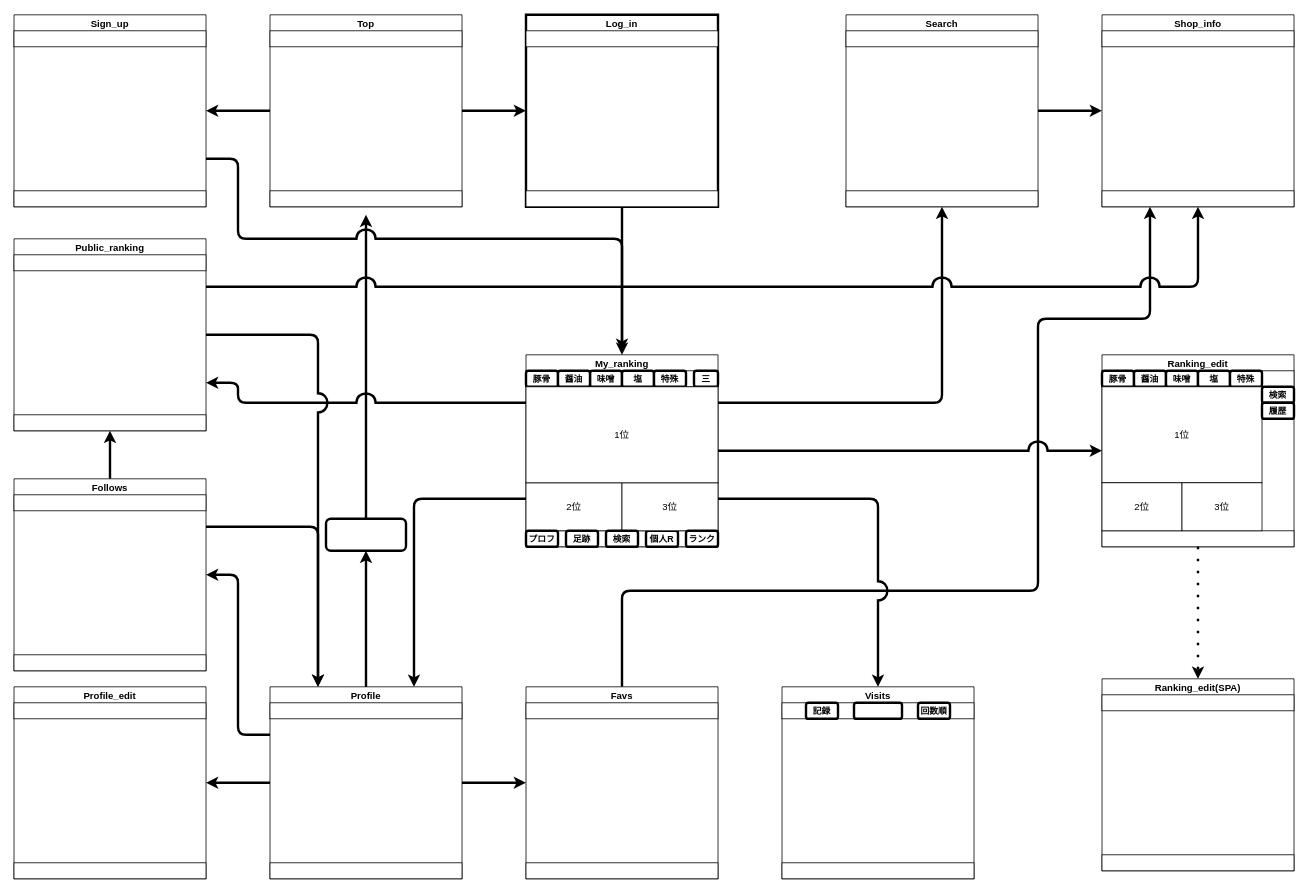
Some shapes in this 1309 by 893 pixel diagram are drawn without their labels. The centre of each missing label's shape, as x and y in pixels:
"sign_out" goes at [365,534].
"カレンダー" goes at [877,710].
